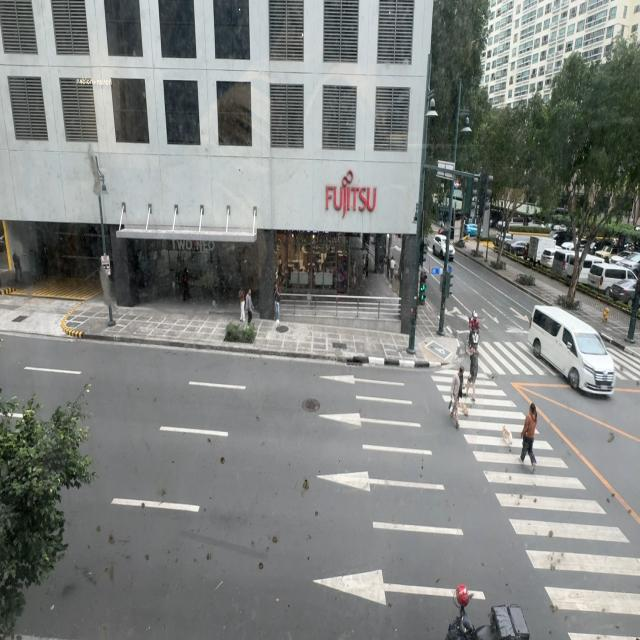crossing: (518, 403, 538, 468), (449, 366, 464, 428), (466, 339, 480, 402)
pedestrain: (244, 288, 253, 326), (272, 283, 280, 324), (12, 250, 22, 282), (239, 290, 246, 324), (390, 256, 396, 282)
